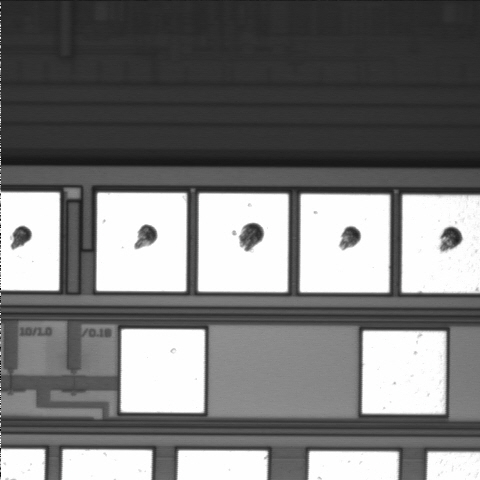pad: (96, 193, 187, 291), (198, 193, 288, 292), (300, 194, 390, 292), (121, 329, 205, 413), (362, 331, 446, 414)
